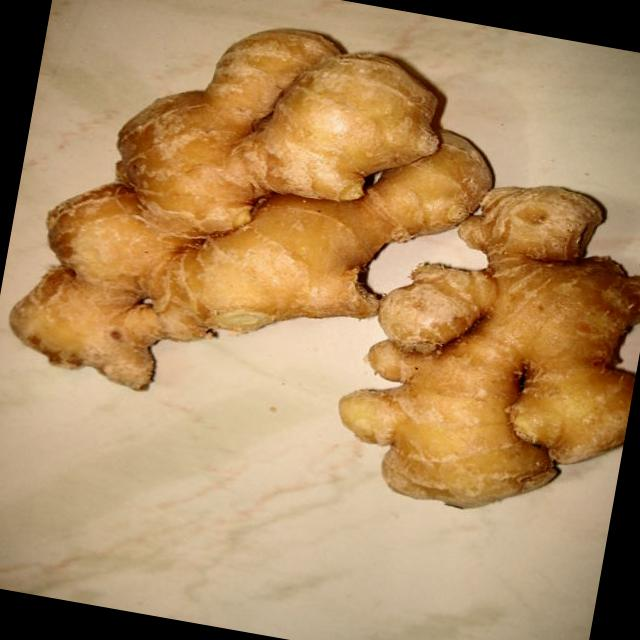lemon: (0, 1, 505, 416), (298, 151, 640, 553)
